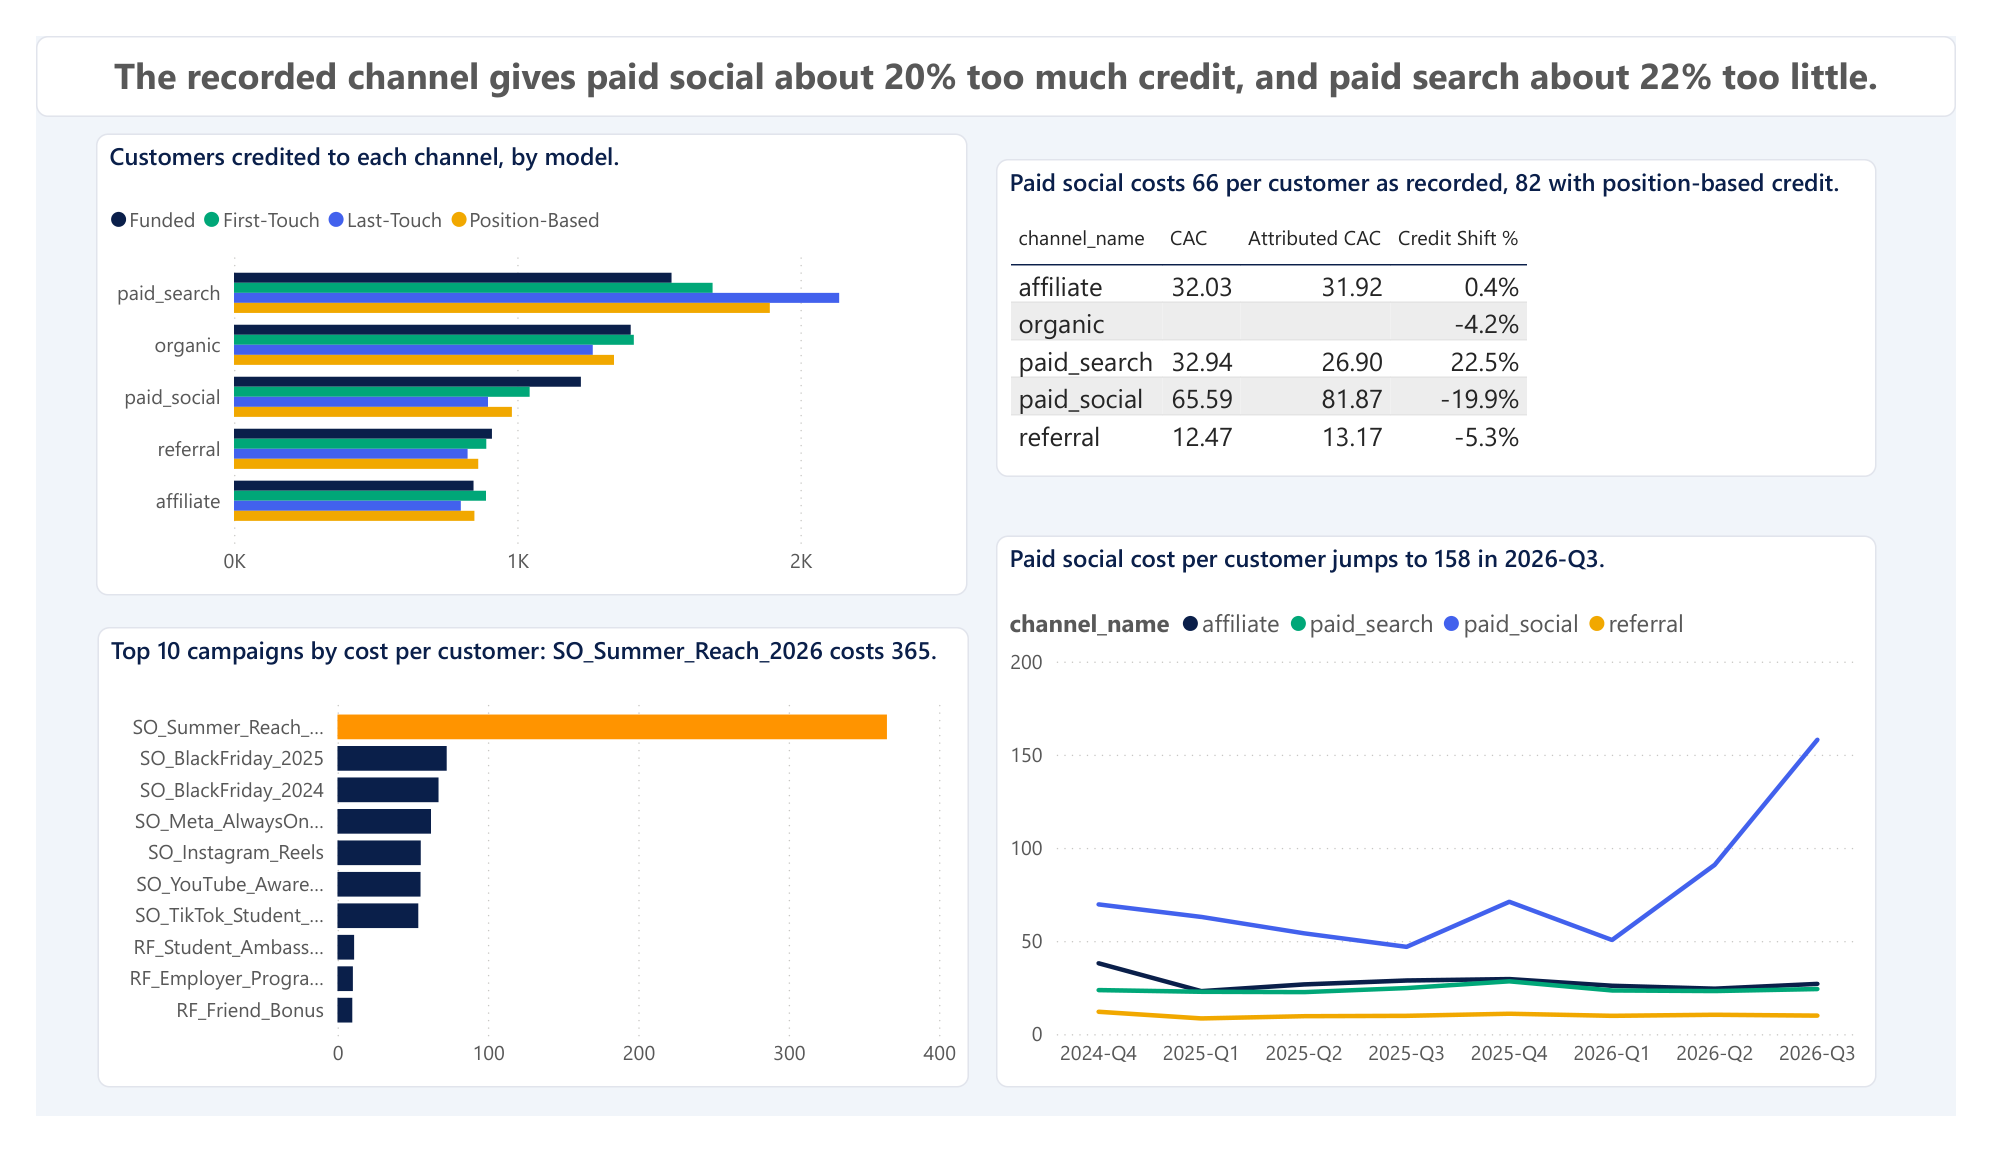

The dashboard page shown, as its layout file describes it:
{"tool":"powerbi","page":{"name":"Attribution and campaigns","canvas":[1280,720],"ordinal":2},"visuals":[{"type":"clusteredBarChart","title":"Customers credited to each channel, by model.","fields":{"Category":["dim channel.channel_name"],"Y":["_Measures.Funded Customers","_Measures.First-Touch Customers","_Measures.Last-Touch Customers","_Measures.Position-Based Customers"]},"box":[40.5,65,580.4,308],"z":0},{"type":"tableEx","title":"Paid social costs 66 per customer as recorded, 82 with position-based credit.","fields":{"Values":["dim channel.channel_name","_Measures.CAC","_Measures.Attributed CAC","_Measures.Credit Shift %"]},"box":[640.5,82.2,586.5,212.3],"z":1},{"type":"clusteredBarChart","title":"Top 10 campaigns by cost per customer: SO_Summer_Reach_2026 costs 365.","fields":{"Category":["rpt v_campaign_cac.campaign_name"],"Y":["_Measures.Campaign CAC"]},"box":[41.2,393.8,580.4,307.4],"z":2},{"type":"lineChart","title":"Paid social cost per customer jumps to 158 in 2026-Q3.","fields":{"Category":["rpt v_budget_inputs.Quarter"],"Series":["dim channel.channel_name"],"Y":["_Measures.Cost per Customer"]},"box":[640.5,332.5,586.5,368.1],"z":3},{"type":"textbox","box":[0,0,1279.8,54],"z":4}]}

Visuals, with their boxes in screenshot pixels (x1, y1, x2, y2), scaled from the page's 1280x720 canvas onto the 1992x1152 screenshot:
"Customers credited to each channel, by model." clusteredBarChart: left=63, top=104, right=966, bottom=597
"Paid social costs 66 per customer as recorded, 82 with position-based credit." tableEx: left=997, top=132, right=1910, bottom=471
"Top 10 campaigns by cost per customer: SO_Summer_Reach_2026 costs 365." clusteredBarChart: left=64, top=630, right=967, bottom=1122
"Paid social cost per customer jumps to 158 in 2026-Q3." lineChart: left=997, top=532, right=1910, bottom=1121
textbox: left=0, top=0, right=1991, bottom=86
